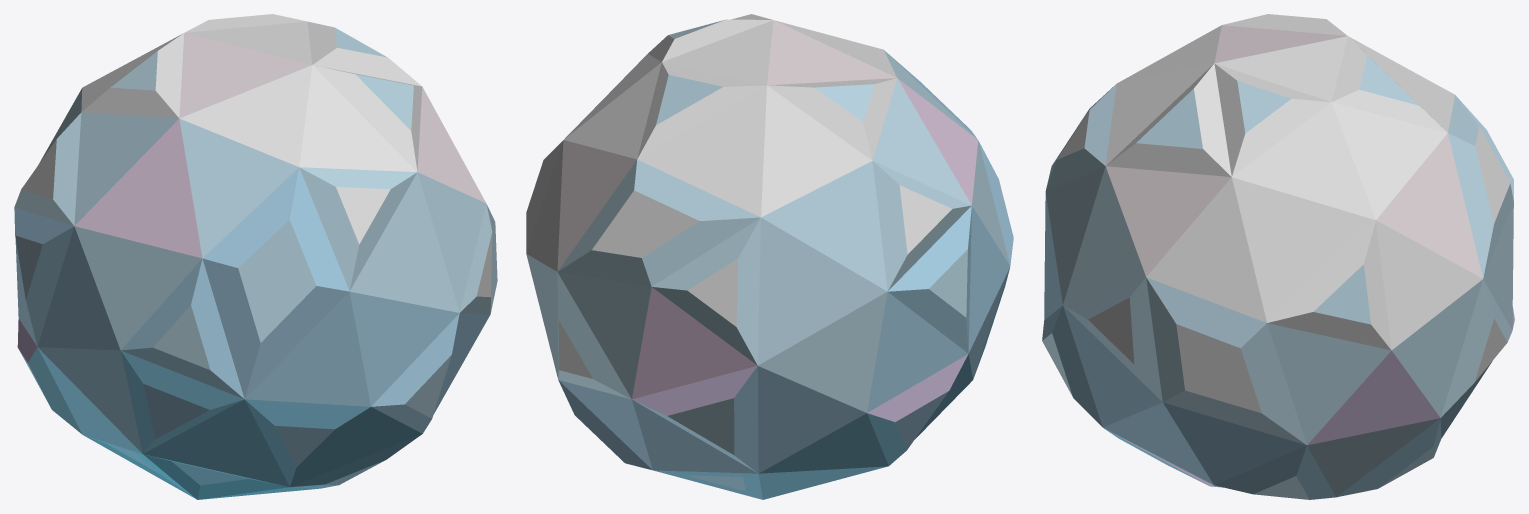
File: Prop_Canon_Ball.fbx
3 views of the same model, side by side, from view 1: azimuth 30°, elevation 25°; view 2: azimuth 150°, elevation 25°; view 3: azimuth 270°, elevation 25° (orthographic).
Parts seen in each view (by area): view 1: Snowball; view 2: Snowball; view 3: Snowball.
Part boxes in pixels (bbox=[...]): Snowball: bbox=[14, 14, 497, 499]; Snowball: bbox=[526, 14, 1013, 499]; Snowball: bbox=[1042, 14, 1514, 499].
Size of the model in its own units: 63.5 by 60.47 by 61.35.
